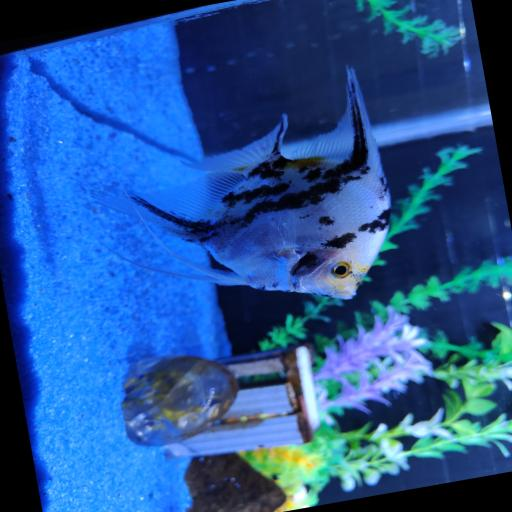Fish: (95, 69, 390, 299)
